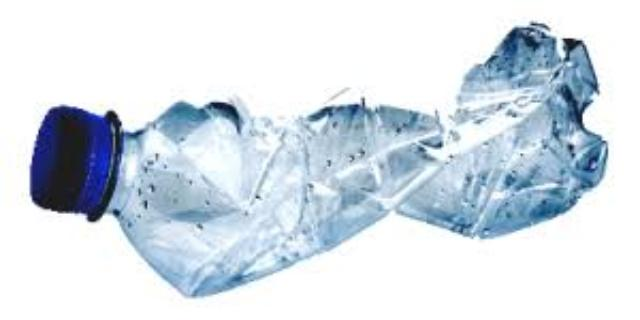plastic: (30, 21, 604, 292)
